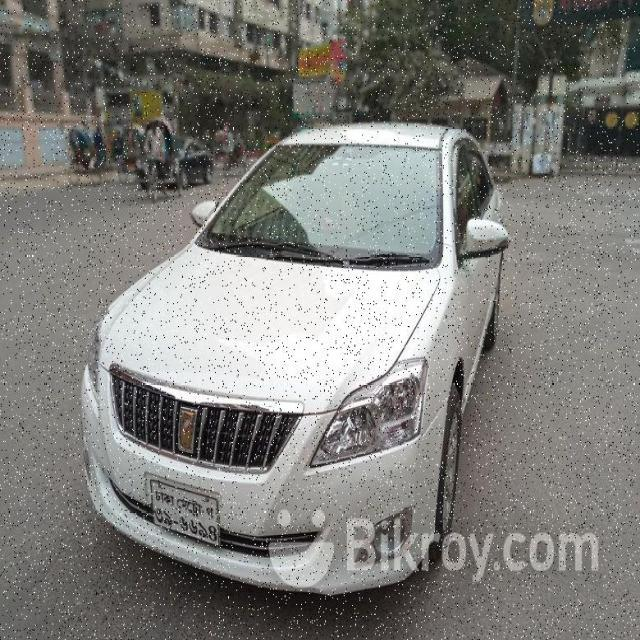numberplate: (144, 476, 222, 547)
